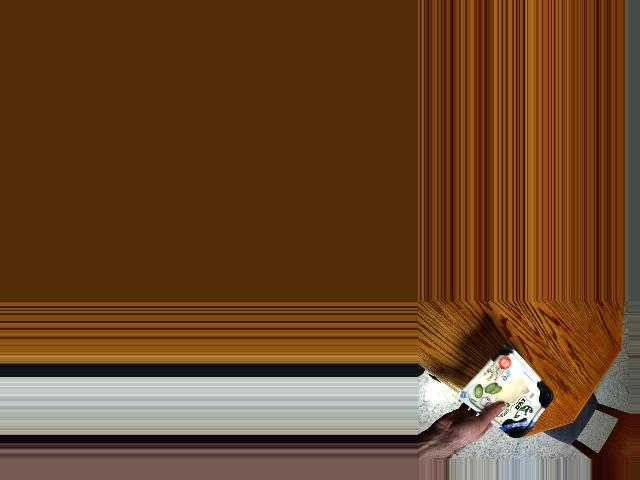cheese: (486, 353, 541, 433)
